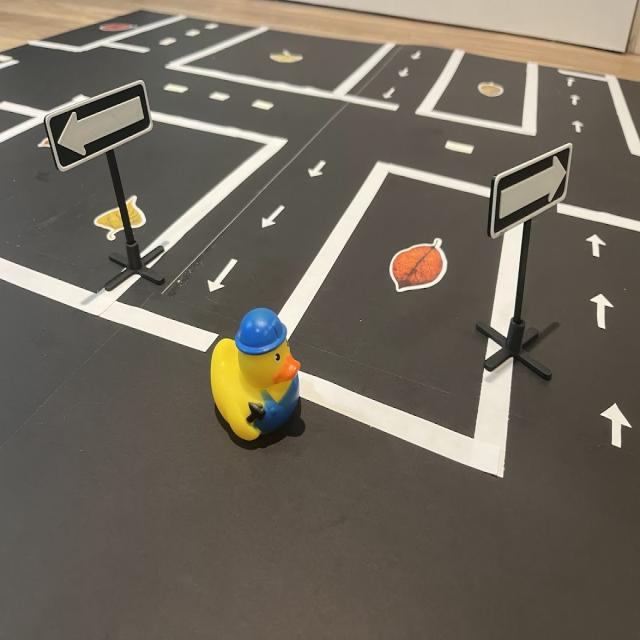duck_specialty: (211, 309, 301, 448)
road_oneway: (599, 392, 636, 458), (204, 253, 247, 296), (259, 199, 291, 237), (591, 288, 616, 335), (585, 227, 610, 265), (306, 157, 332, 185), (572, 115, 588, 138), (381, 85, 398, 102), (398, 64, 414, 82), (410, 48, 427, 62), (570, 92, 583, 109), (565, 77, 577, 89)
sign_oneway_left: (46, 77, 156, 179)
sign_oneway_right: (492, 141, 571, 243)
